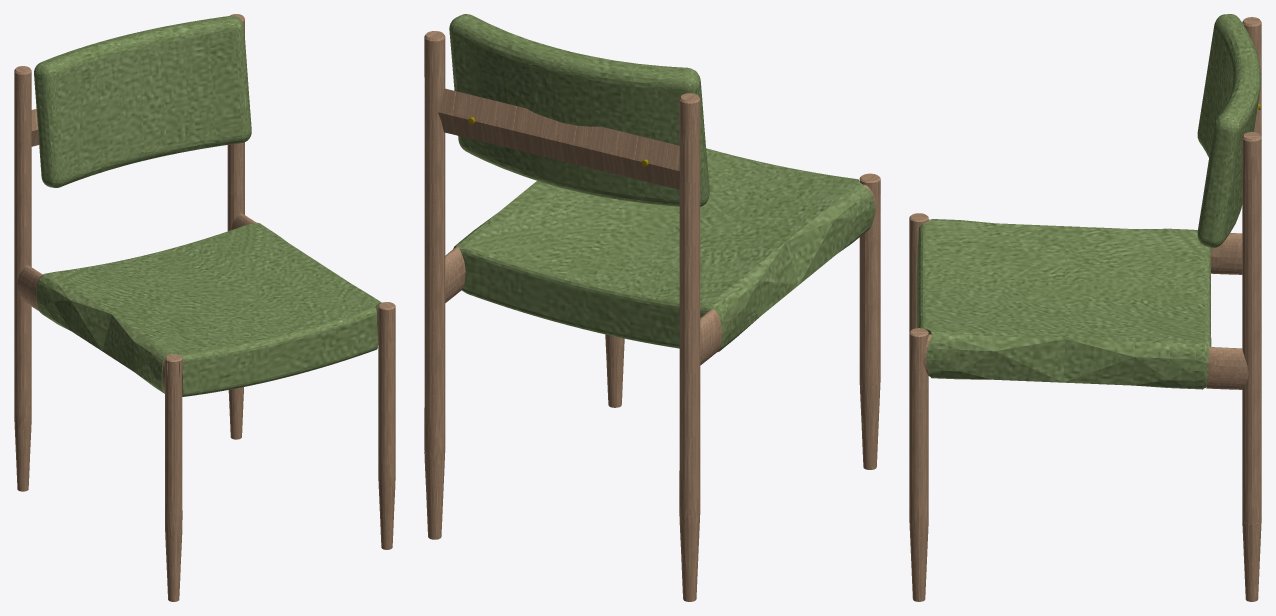
File: ivo-cadeira.glb
The picture shows the model from 3 angles, left to right: view 1: azimuth 30°, elevation 25°; view 2: azimuth 150°, elevation 25°; view 3: azimuth 270°, elevation 25°; orthographic projection. The views are drawn at different scales.
Parts seen in each view (by area): view 1: Geom3D (×3); view 2: Geom3D (×3); view 3: Geom3D (×3).
Boxes of the visible parts, x1,y1,x2,y2 form: Geom3D (×3): (14,14,395,601); Geom3D (×3): (424,14,880,601); Geom3D (×3): (909,14,1261,601).
Bounding box in the file's own units: 0.4517 × 0.8119 × 0.5441.
4 materials, 3 textured.
